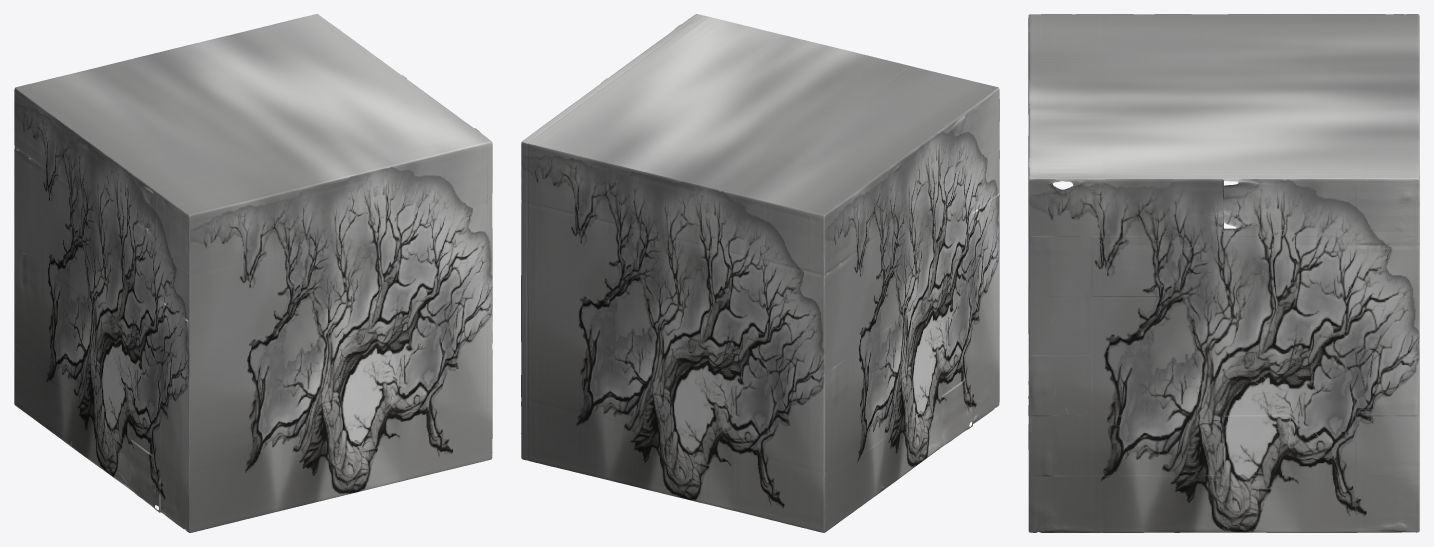
The model's file is hill_dead_tree.glb.
3 views of the same model, side by side, from view 1: azimuth 30°, elevation 25°; view 2: azimuth 150°, elevation 25°; view 3: azimuth 270°, elevation 25° (orthographic). The views are drawn at different scales.
Parts seen in each view (by area): view 1: hill_dead_tree; view 2: hill_dead_tree; view 3: hill_dead_tree.
Boxes of the visible parts, x1=… form: hill_dead_tree: x1=14, y1=14, x2=492, y2=532; hill_dead_tree: x1=521, y1=14, x2=999, y2=532; hill_dead_tree: x1=1028, y1=14, x2=1419, y2=532.
Bounding box in the file's own units: 5.05 × 5 × 5.
Materials: 1 (1 with a texture image).
